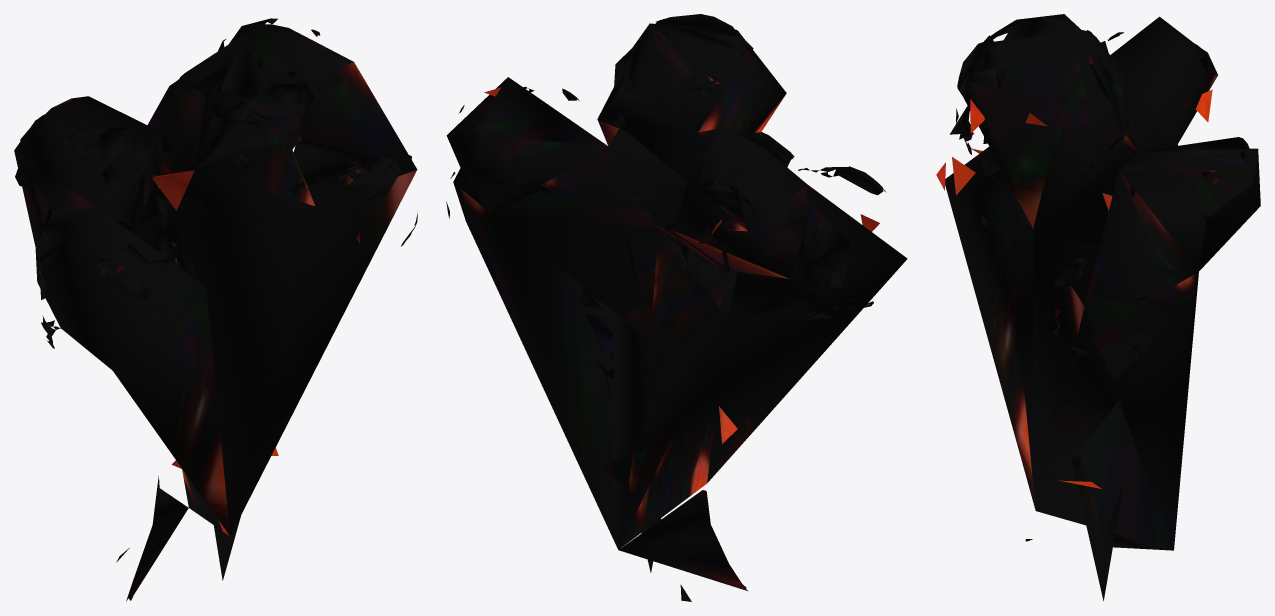
Rendered from lg-ash-tree.glb.
The picture shows the model from 3 angles, left to right: view 1: azimuth 30°, elevation 25°; view 2: azimuth 150°, elevation 25°; view 3: azimuth 270°, elevation 25°; orthographic projection. The views are drawn at different scales.
Visible parts, largest first — view 1: geometry_0; view 2: geometry_0; view 3: geometry_0.
Part boxes in pixels (<box>): geometry_0: <box>14,18,417,601</box>; geometry_0: <box>446,14,907,601</box>; geometry_0: <box>936,14,1260,600</box>.
Size of the model in its own units: 0.7469 by 1 by 0.5088.
Materials: 1 (1 with a texture image).
